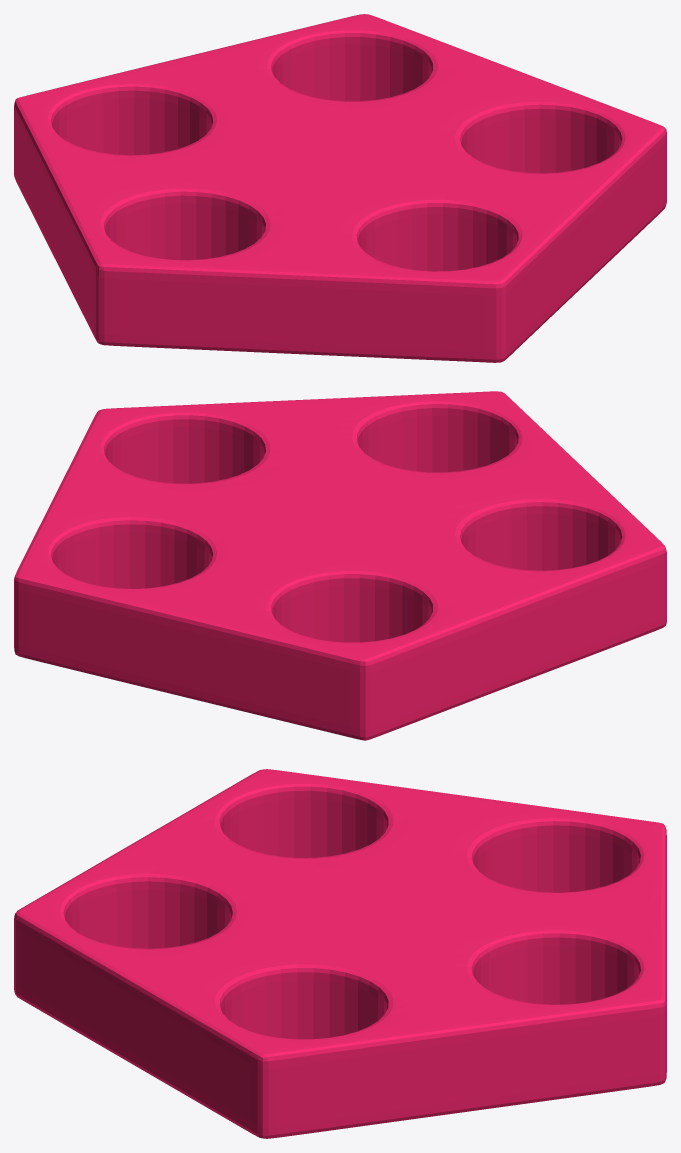
Rendered from pentagon.obj.
3 views of the same model, one above another, from view 1: azimuth 30°, elevation 25°; view 2: azimuth 150°, elevation 25°; view 3: azimuth 270°, elevation 25° (orthographic). The views are drawn at different scales.
Bounding box in the file's own units: 0.048 × 0.00658 × 0.0458.
